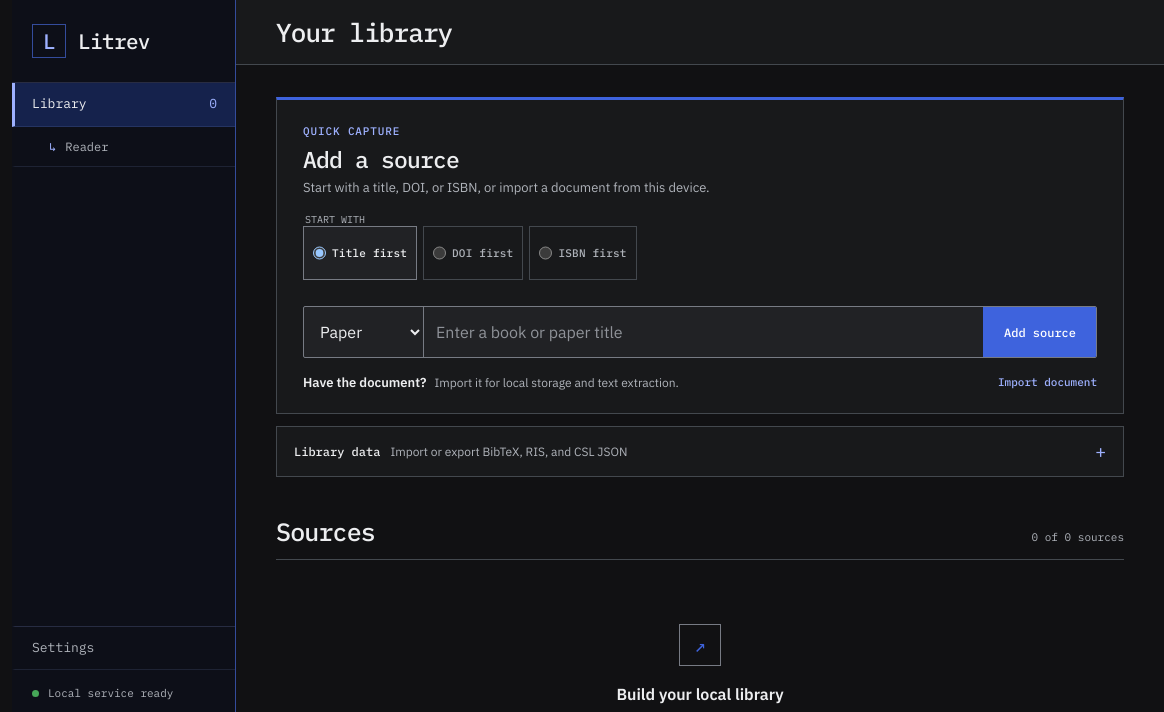
Scenario: requires a bibliography selection before making a request
This screenshot has width=1164, height=712.
Expected: the text "Local service ready" is shown, x1=32 y1=686 x2=173 y2=700
Click the heading "Library data": [461, 452] box x1=294 y1=444 x2=628 y2=459
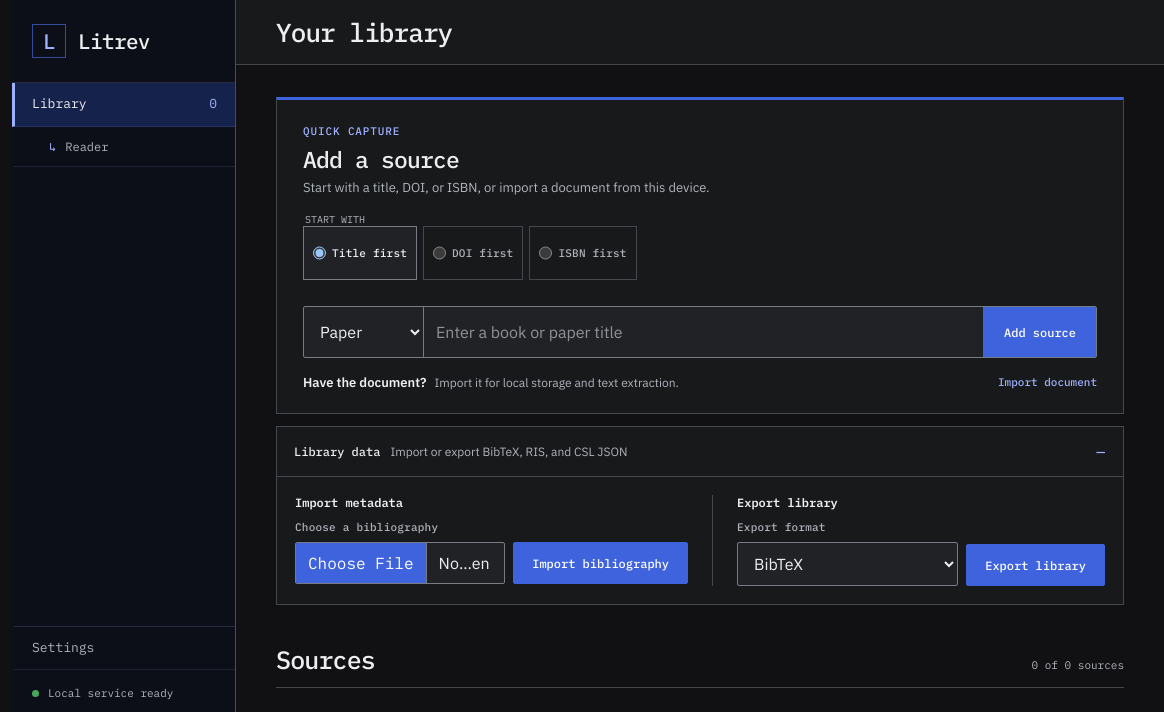
Click the button "Import bibliography": [601, 563] box x1=513 y1=542 x2=688 y2=584
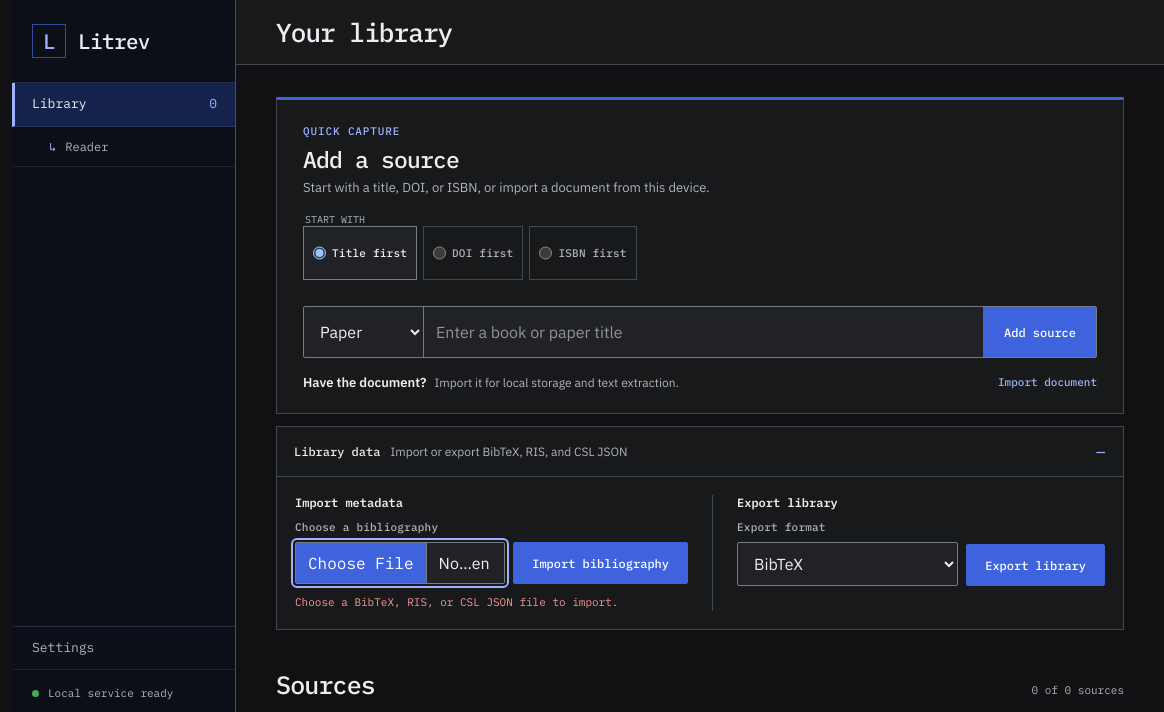
Expected: the message "Choose a BibTeX, RIS, or CSL JSON file to import." is shown, x1=295 y1=595 x2=618 y2=609
